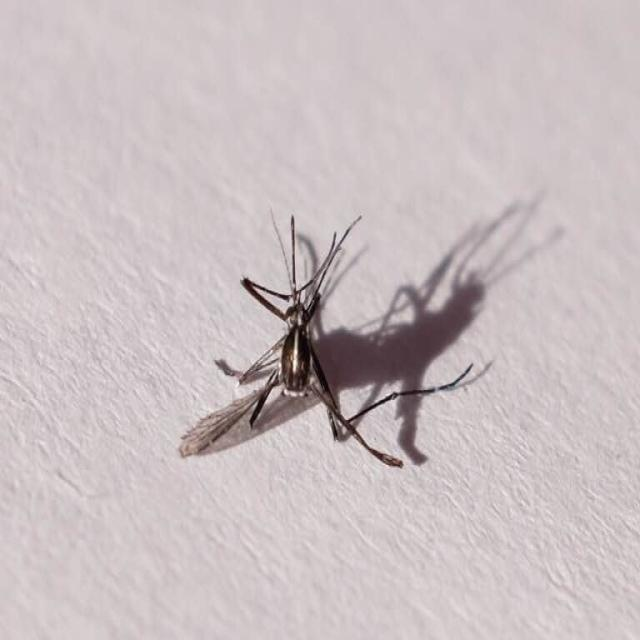albopictus: (180, 196, 491, 469)
